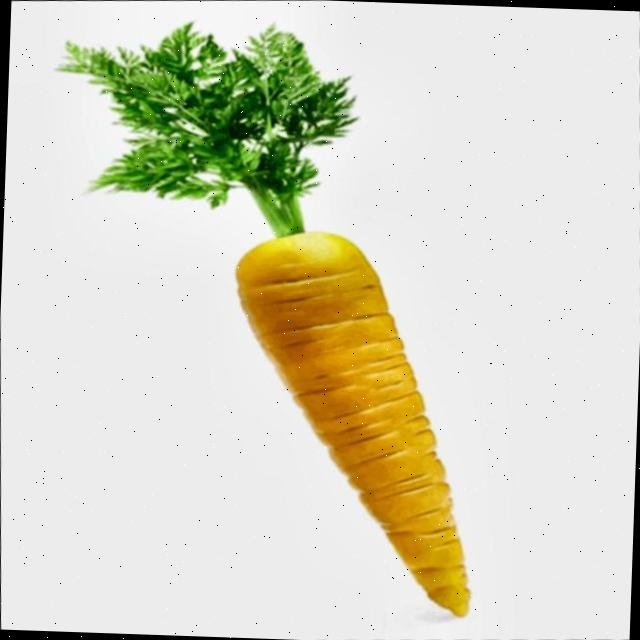carrot: (61, 23, 469, 616)
